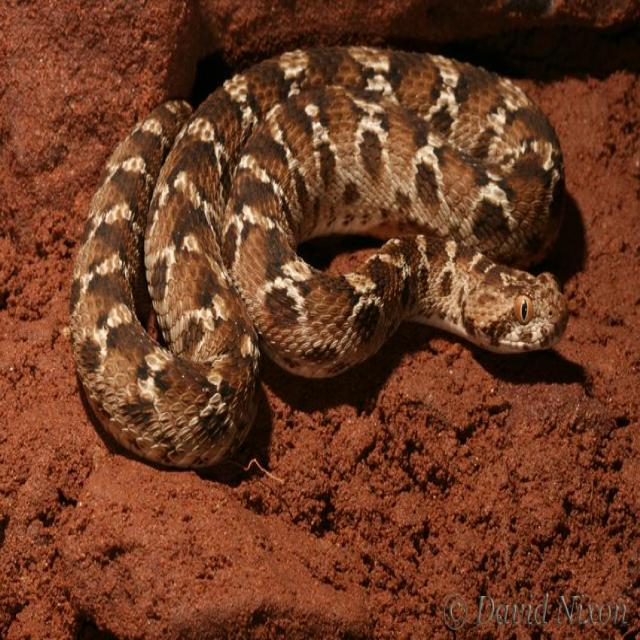Snake: (68, 42, 569, 470)
